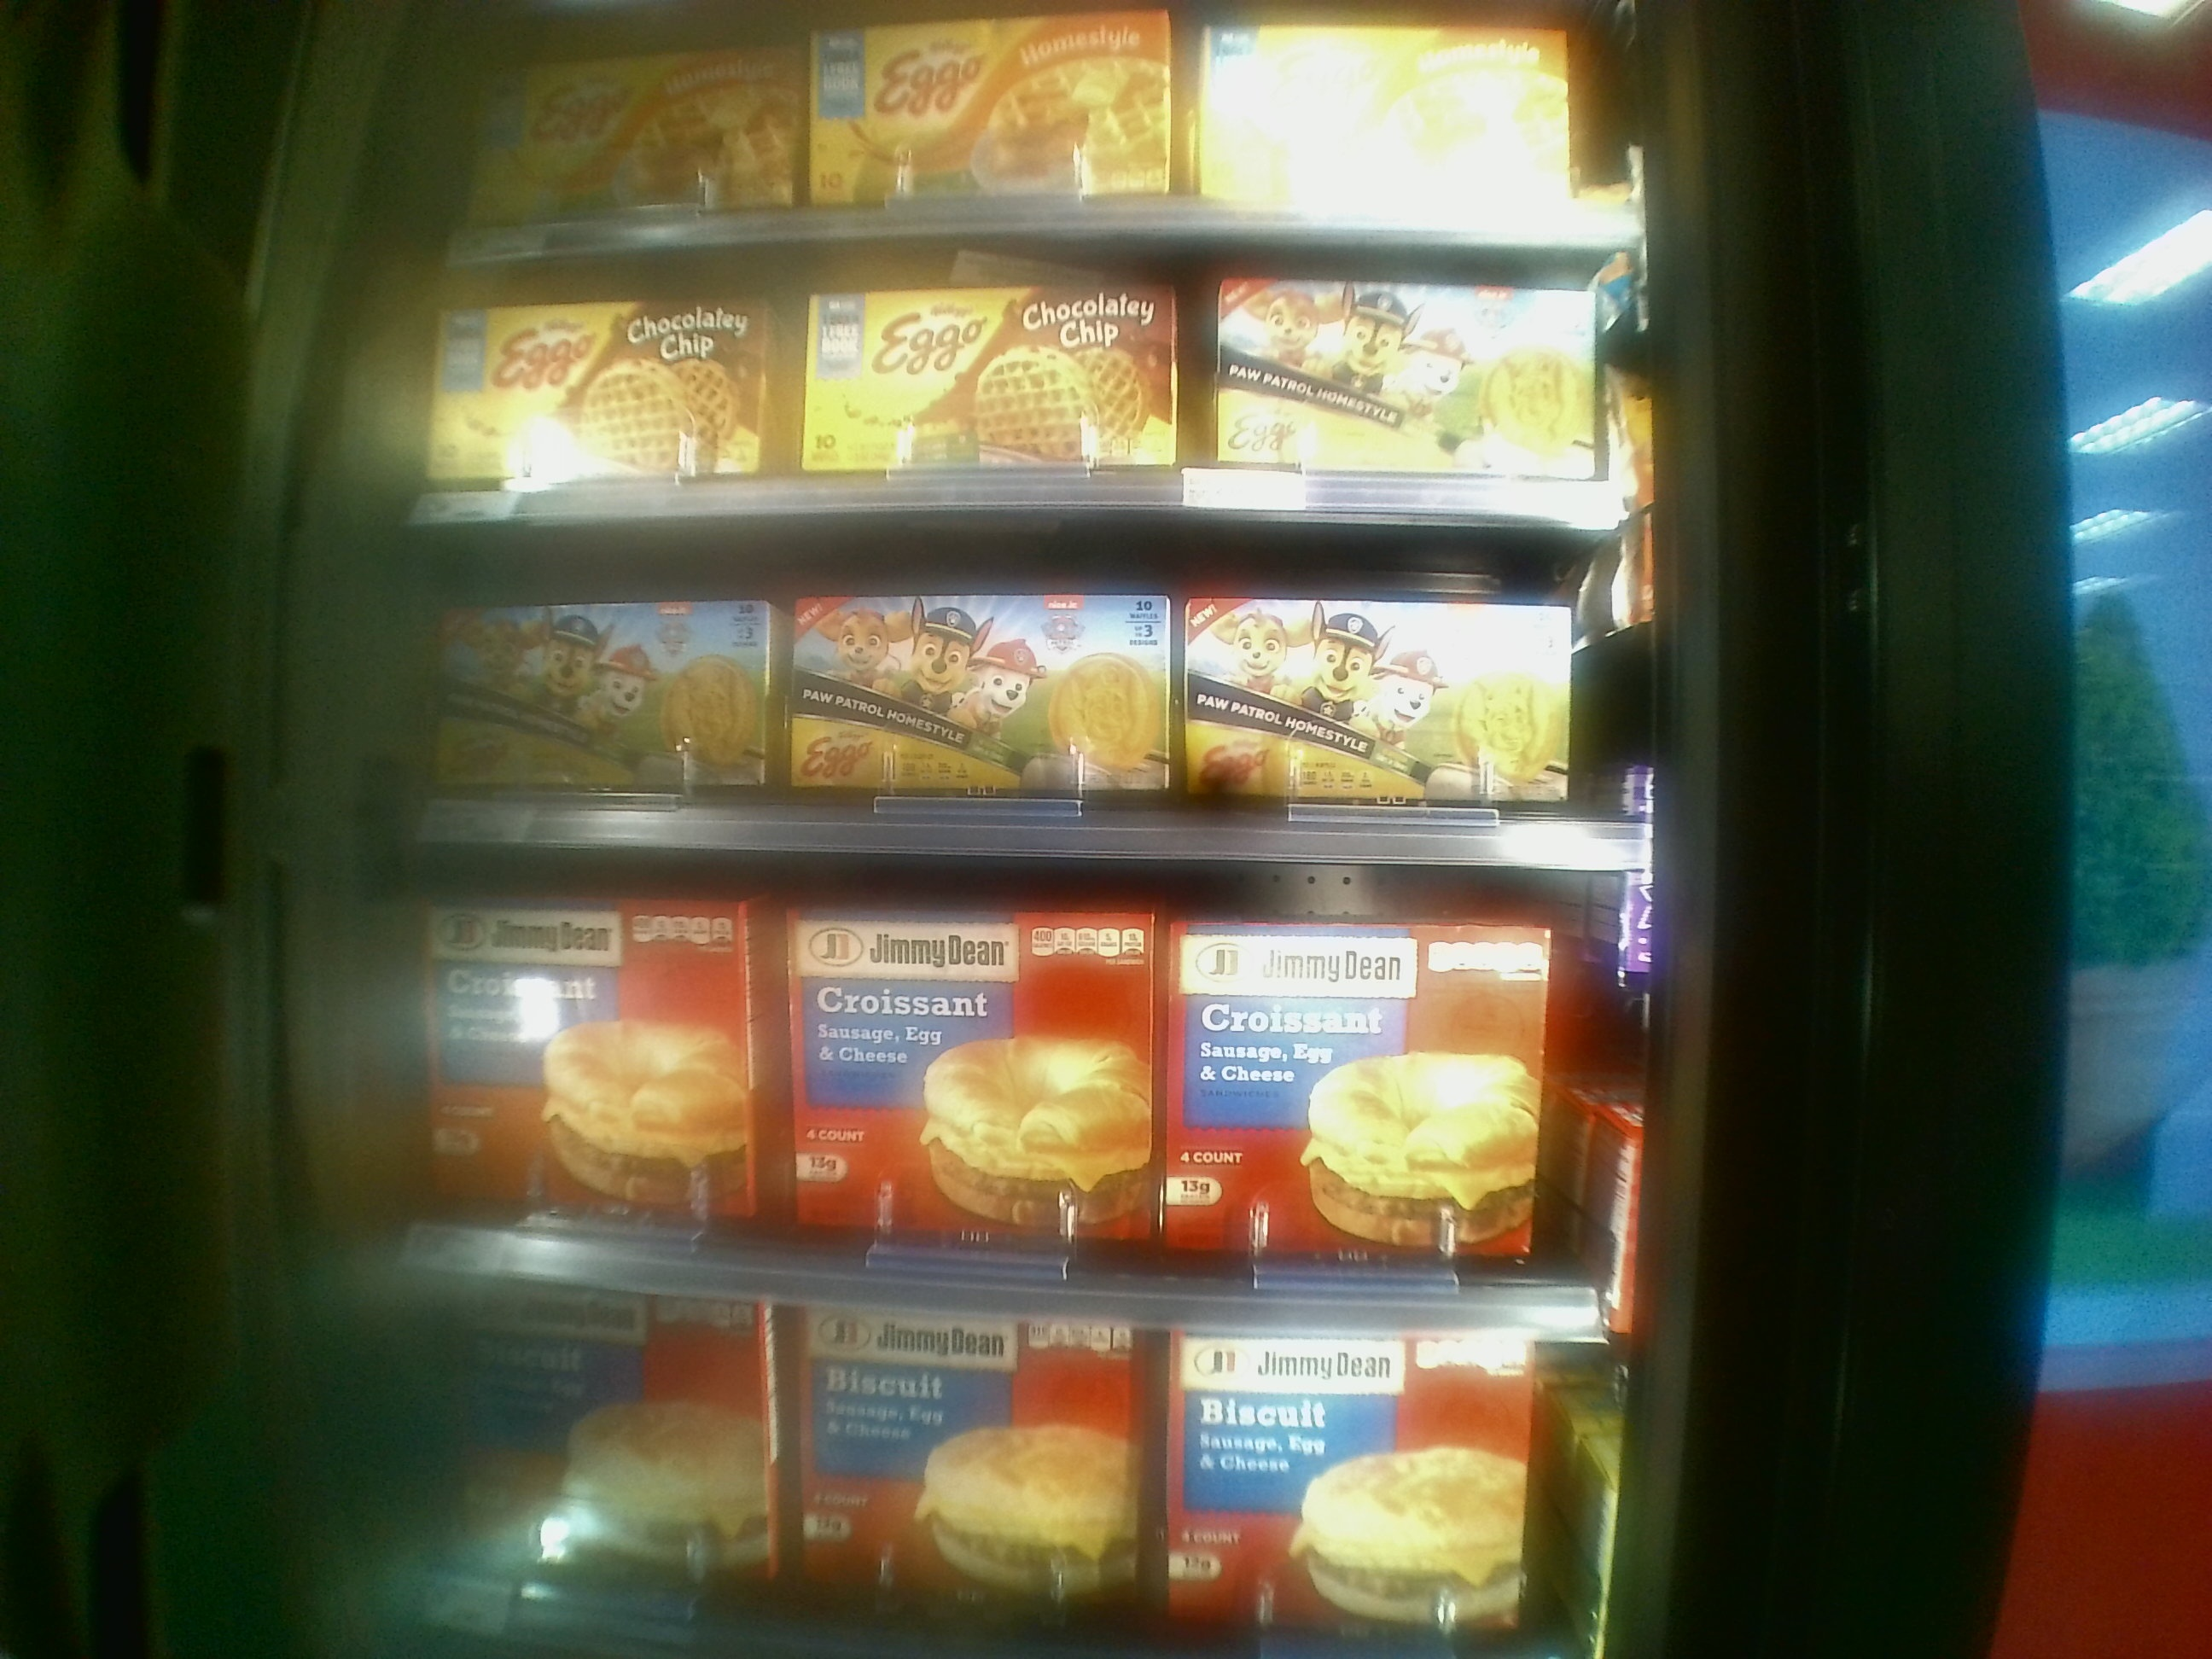shelf: (380, 828, 1641, 1349), (394, 507, 1646, 870)
